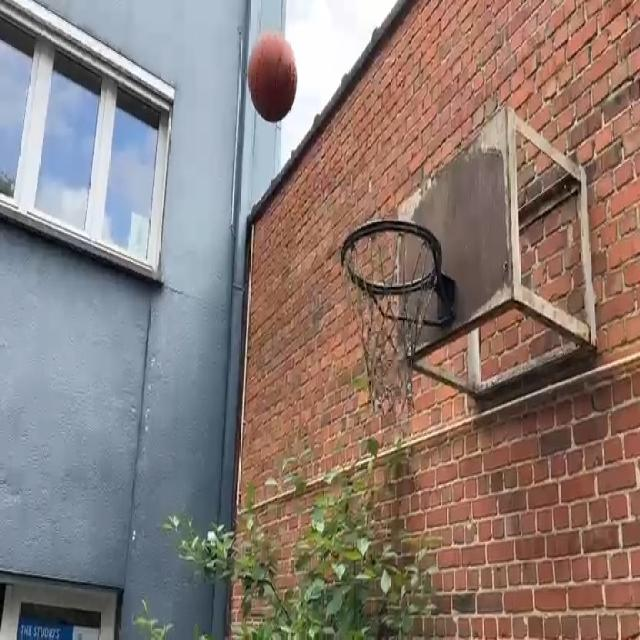Basketball: (248, 35, 298, 123)
